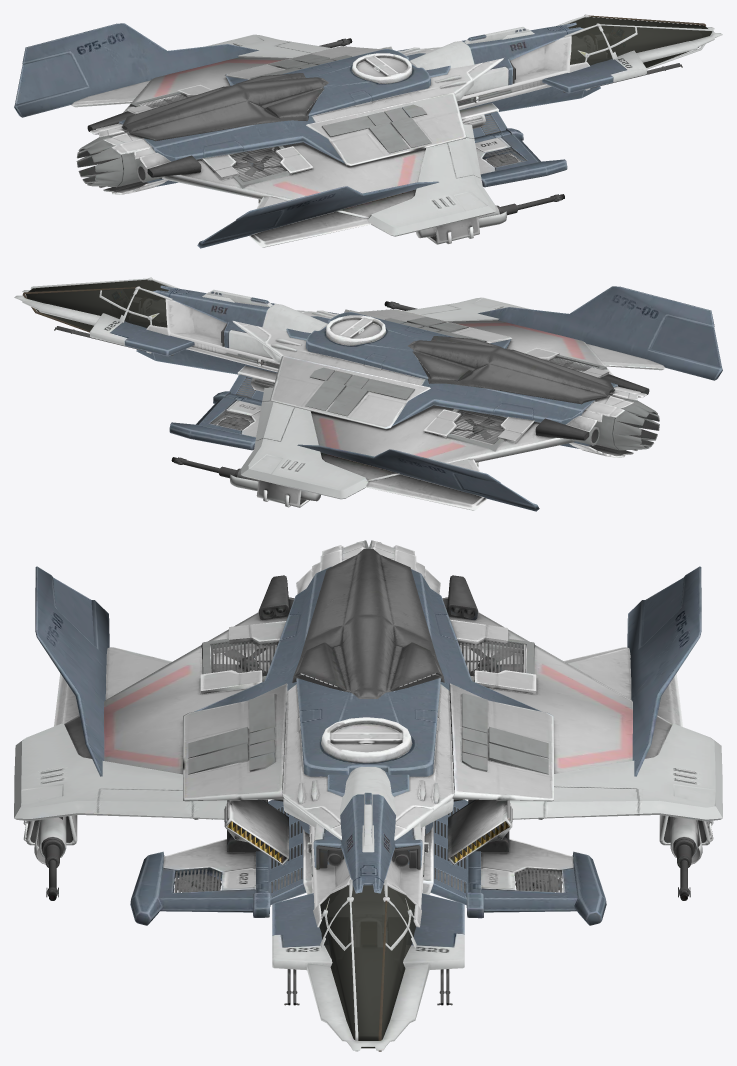
Rendered from northstar.glb.
3 views of the same model, one above another, from view 1: azimuth 30°, elevation 25°; view 2: azimuth 150°, elevation 25°; view 3: azimuth 270°, elevation 25° (orthographic). The views are drawn at different scales.
Parts seen in each view (by area): view 1: root; view 2: root; view 3: root.
Part boxes in pixels (x1,y1,x2,y2): root: (14,14,722,248); root: (14,277,722,511); root: (14,540,722,1051).
Size of the model in its own units: 20 by 2.89 by 13.11.
Materials: 4 (3 with a texture image).
